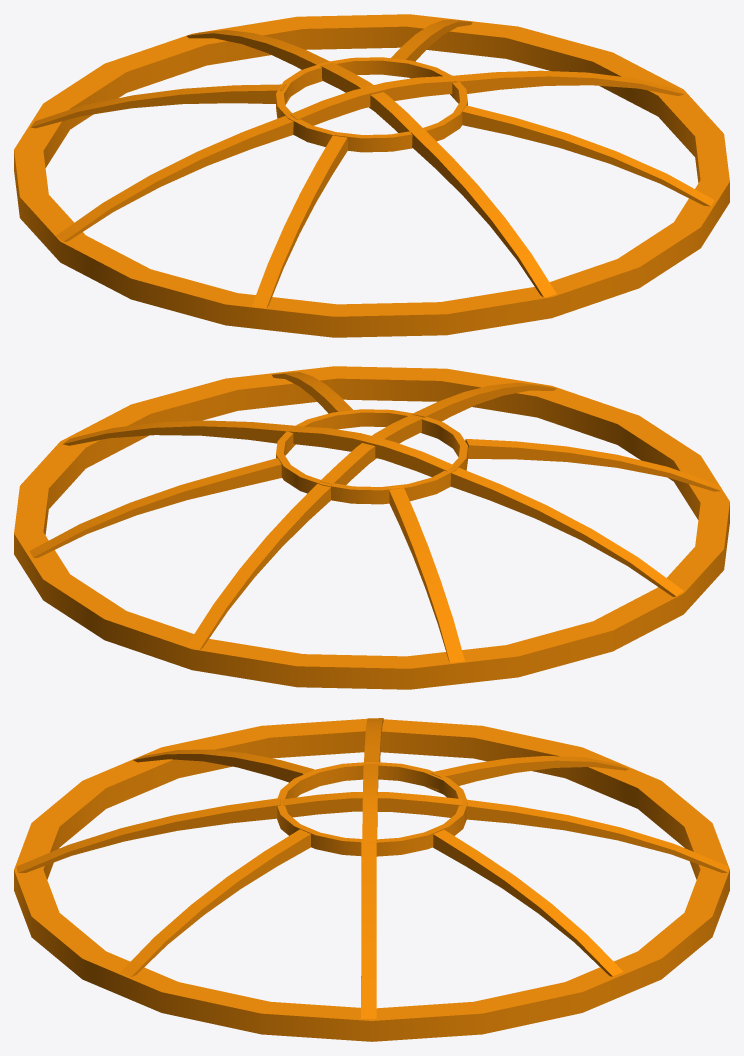
File: toono.glb
The picture shows the model from 3 angles, top to bottom: view 1: azimuth 30°, elevation 25°; view 2: azimuth 150°, elevation 25°; view 3: azimuth 270°, elevation 25°; orthographic projection.
Parts seen in each view (by area): view 1: pasted__pasted__pasted__pCube10; view 2: pasted__pasted__pasted__pCube10; view 3: pasted__pasted__pasted__pCube10.
Boxes of the visible parts, x1,y1,x2,y2 form: pasted__pasted__pasted__pCube10: (14,14,729,337); pasted__pasted__pasted__pCube10: (14,366,729,689); pasted__pasted__pasted__pCube10: (14,718,729,1041).
Bounding box in the file's own units: 9.14 × 1.37 × 9.14.
